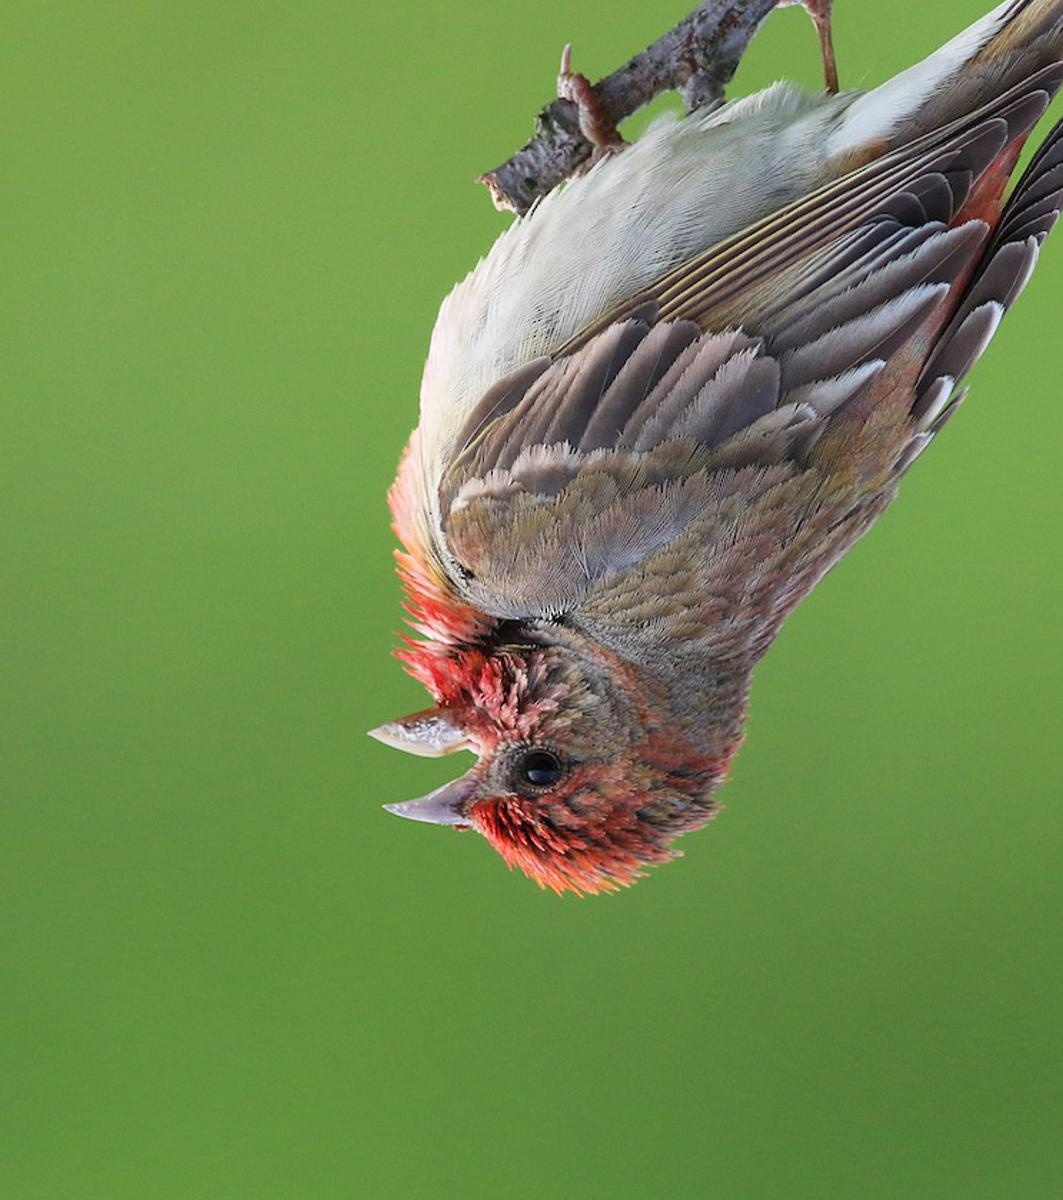rosefinch: (362, 1, 1020, 909)
